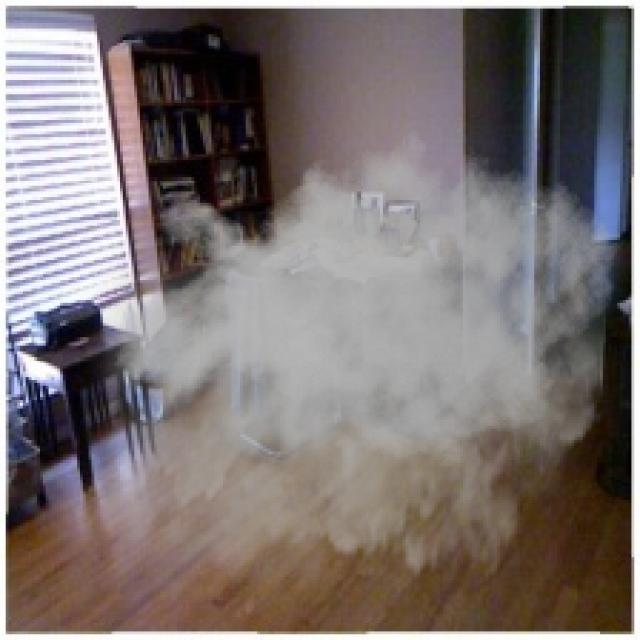smoke: (63, 114, 617, 637)
